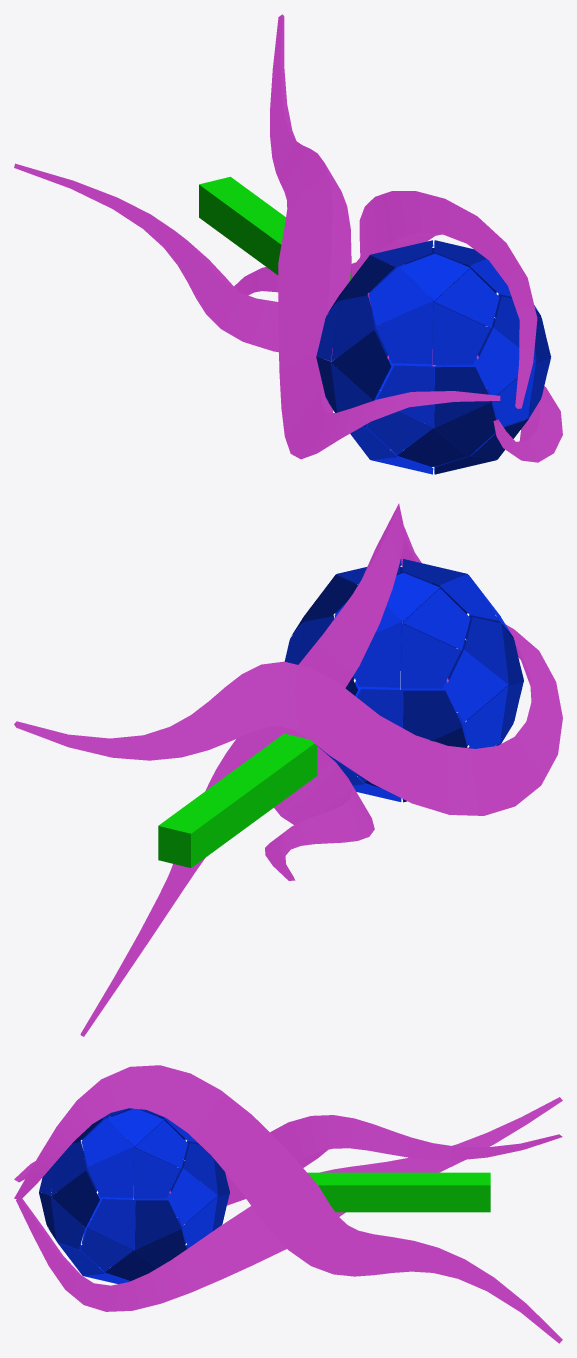
File: bonita.fbx
3 views of the same model, one above another, from view 1: azimuth 30°, elevation 25°; view 2: azimuth 150°, elevation 25°; view 3: azimuth 270°, elevation 25° (orthographic). The views are drawn at different scales.
Parts seen in each view (by area): view 1: BezierCurve.001, space.001, Cube.002; view 2: BezierCurve.001, space.001, Cube.002; view 3: BezierCurve.001, space.001, Cube.002.
Boxes of the visible parts, x1,y1,x2,y2 form: BezierCurve.001: (14, 14, 562, 462); space.001: (316, 240, 551, 474); Cube.002: (199, 176, 351, 280); BezierCurve.001: (14, 503, 562, 1036); space.001: (284, 559, 523, 802); Cube.002: (158, 733, 317, 867); BezierCurve.001: (14, 1065, 562, 1343); space.001: (39, 1108, 229, 1283); Cube.002: (307, 1172, 490, 1212).
Size of the model in its own units: 13.34 by 14.24 by 27.1.
